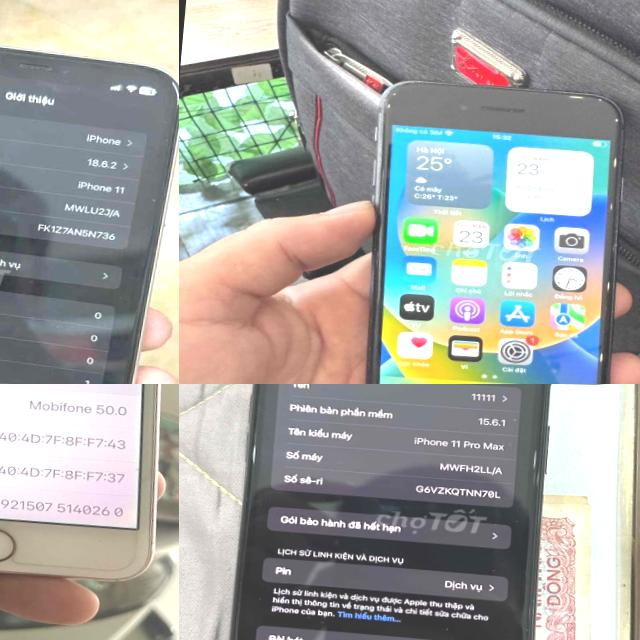gen_11: (331, 58, 640, 384), (205, 384, 567, 640), (0, 9, 179, 384)
gen_7_8: (0, 384, 160, 579)
scratch: (523, 82, 626, 123), (375, 80, 405, 112)
